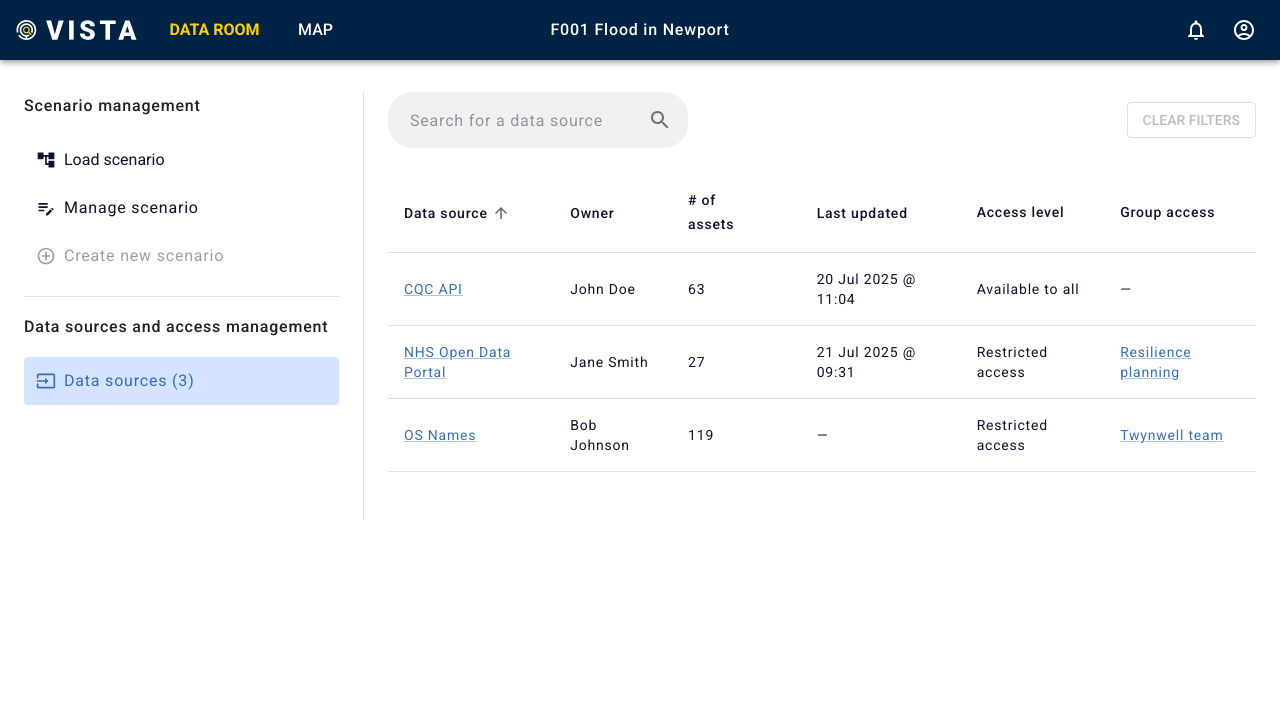
DataSources › Scenario Modal › allows selecting different scenarios
expect the link "CQC API" is shown: met, box [404,281,463,297]
Click the button "Load scenario".
click(114, 160)  # box [24,136,339,184]
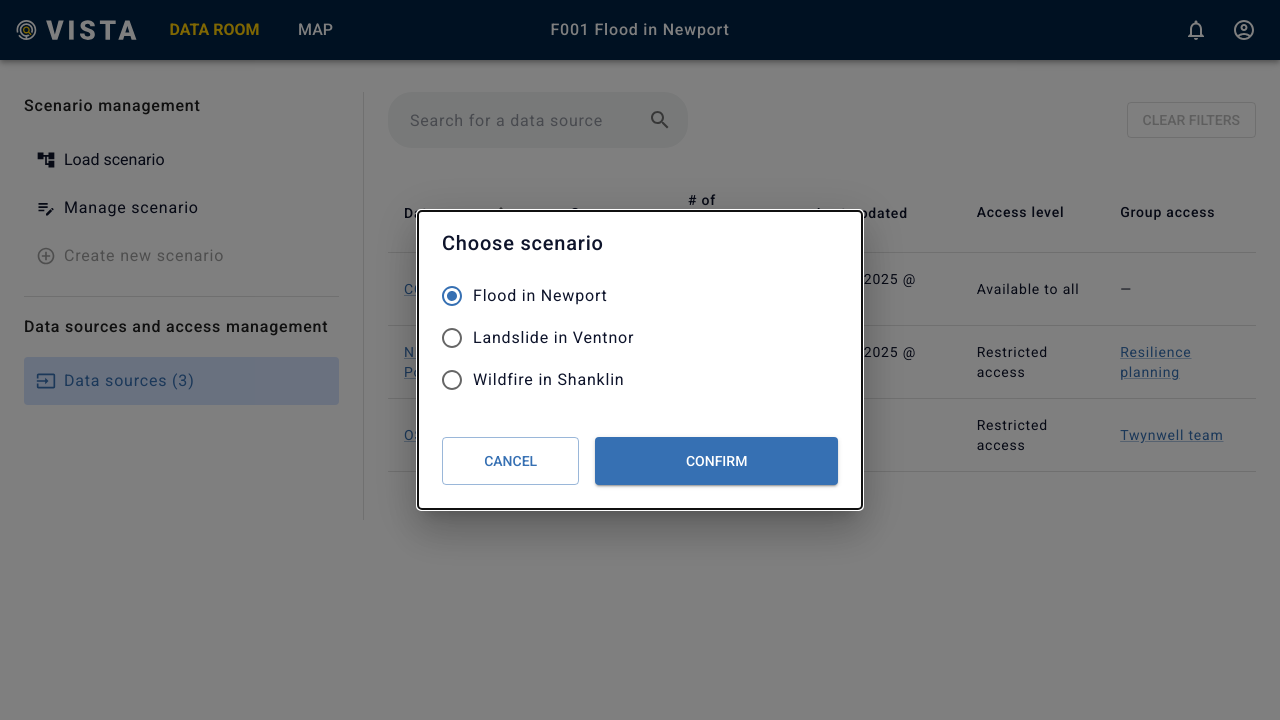
Click the radio button labelled "Landslide in Ventnor".
click(537, 338)  # box [440,326,634,350]
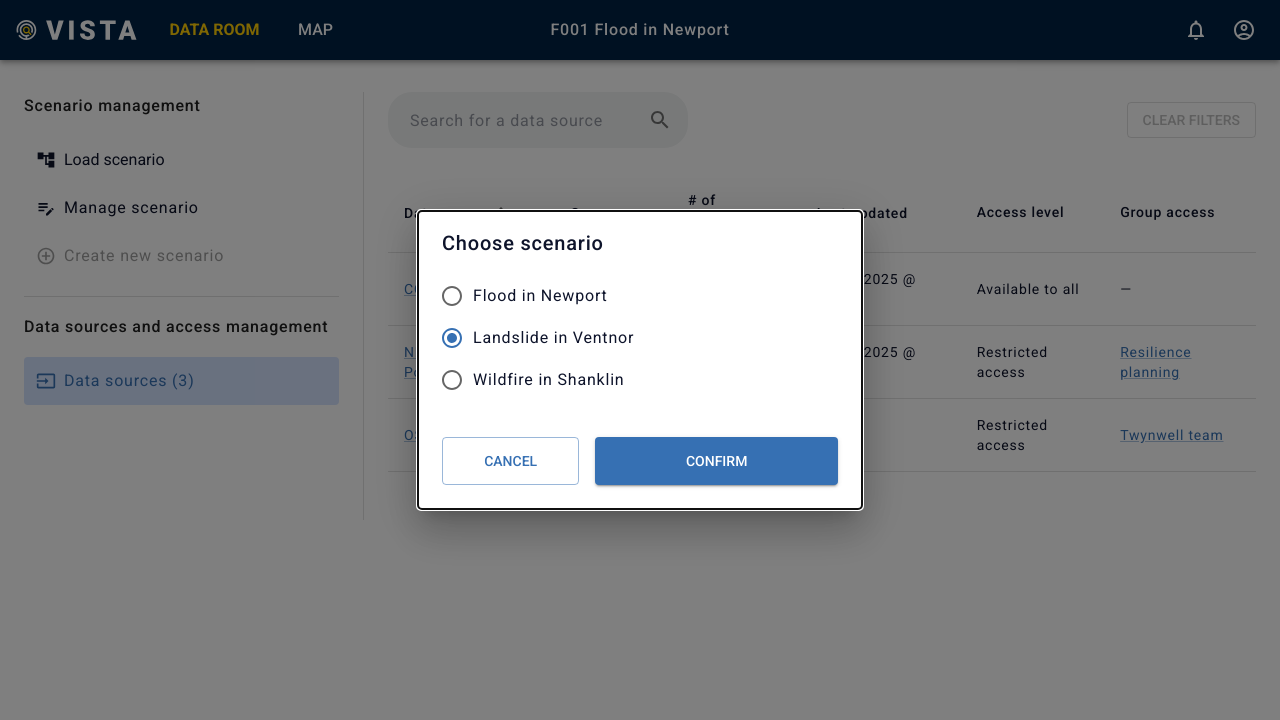
expect the radio button labelled "Landslide in Ventnor" is checked: met, box [440,326,634,350]
expect the radio button labelled "Flood in Newport" is not checked: met, box [440,284,608,308]
